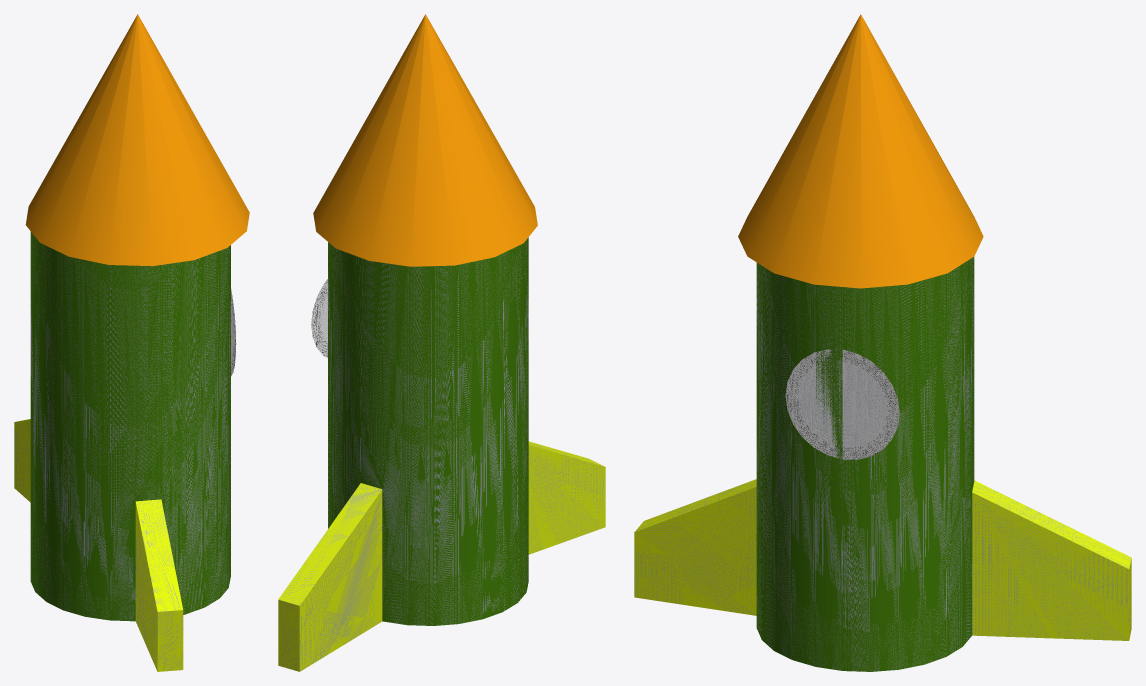
The picture shows the model from 3 angles, left to right: view 1: azimuth 30°, elevation 25°; view 2: azimuth 150°, elevation 25°; view 3: azimuth 270°, elevation 25°; orthographic projection. The views are drawn at different scales.
Visible parts, largest first — view 1: SketchUp (×4), cone; view 2: SketchUp (×4), cone; view 3: SketchUp (×5), cone.
Part boxes in pixels (box(x1,y1,x2,y2)): SketchUp (×4): box(14, 231, 230, 671); cone: box(25, 14, 249, 266); SketchUp (×4): box(278, 237, 605, 671); cone: box(313, 14, 537, 266); SketchUp (×5): box(634, 257, 1131, 671); cone: box(738, 14, 983, 288).
Bounding box in the file's own units: 120 × 243 × 331.
